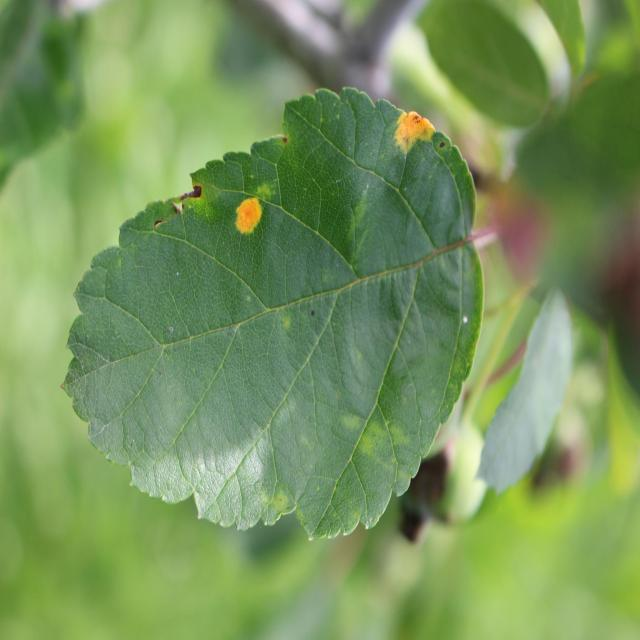Rust: (388, 106, 438, 163), (230, 186, 263, 246)
